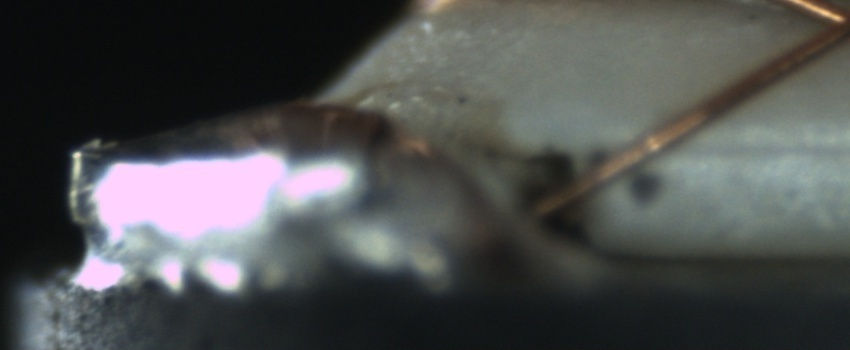DL: (680, 113, 850, 177)
